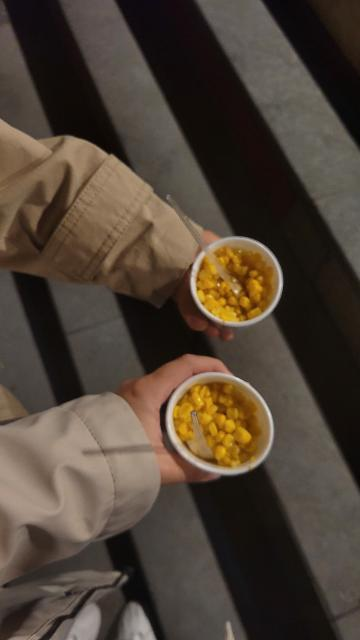Organik: (184, 386, 258, 463), (209, 249, 268, 316)
